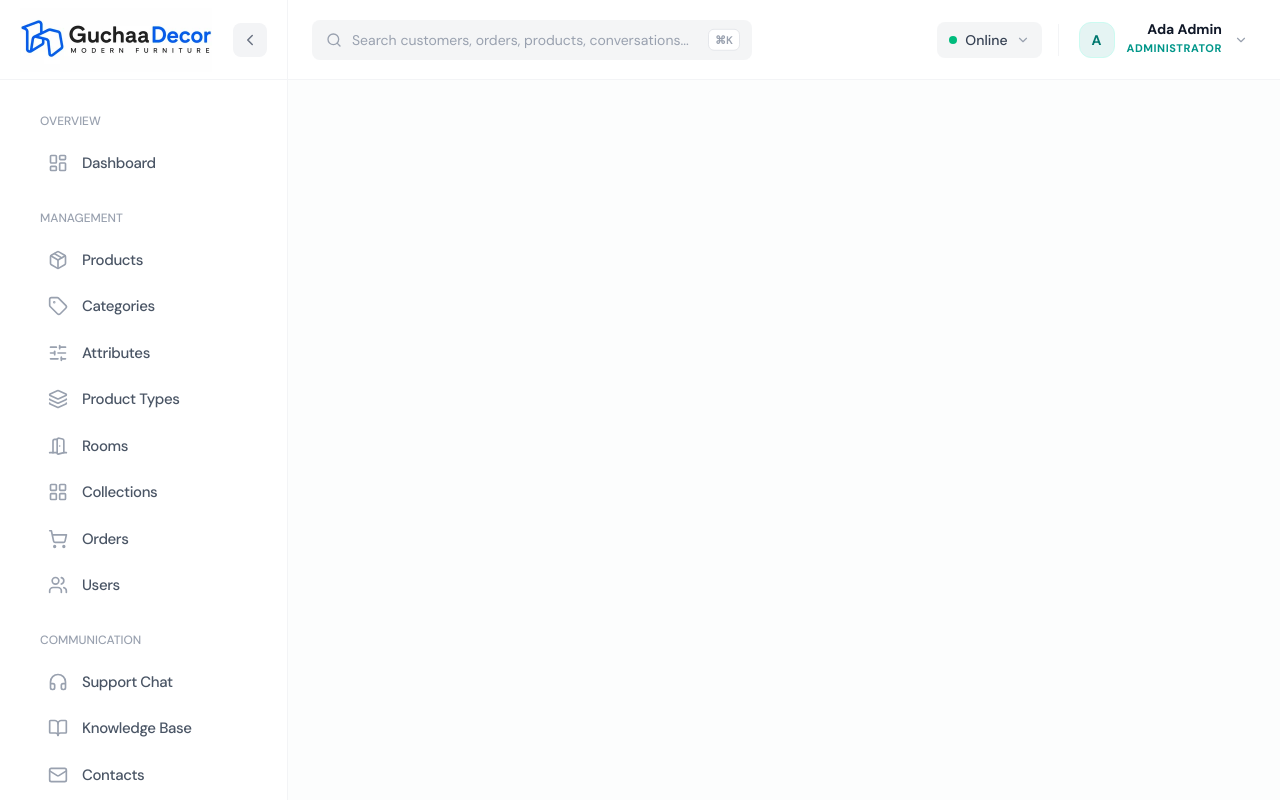
Test: migrated admin modal — AdminLayout Help dialog (FE-64) › opens from the profile menu as a dialog and closes on Escape
Click the button "A Ada Admin Administrator" at (1165, 40), box [1075,16,1256,64]
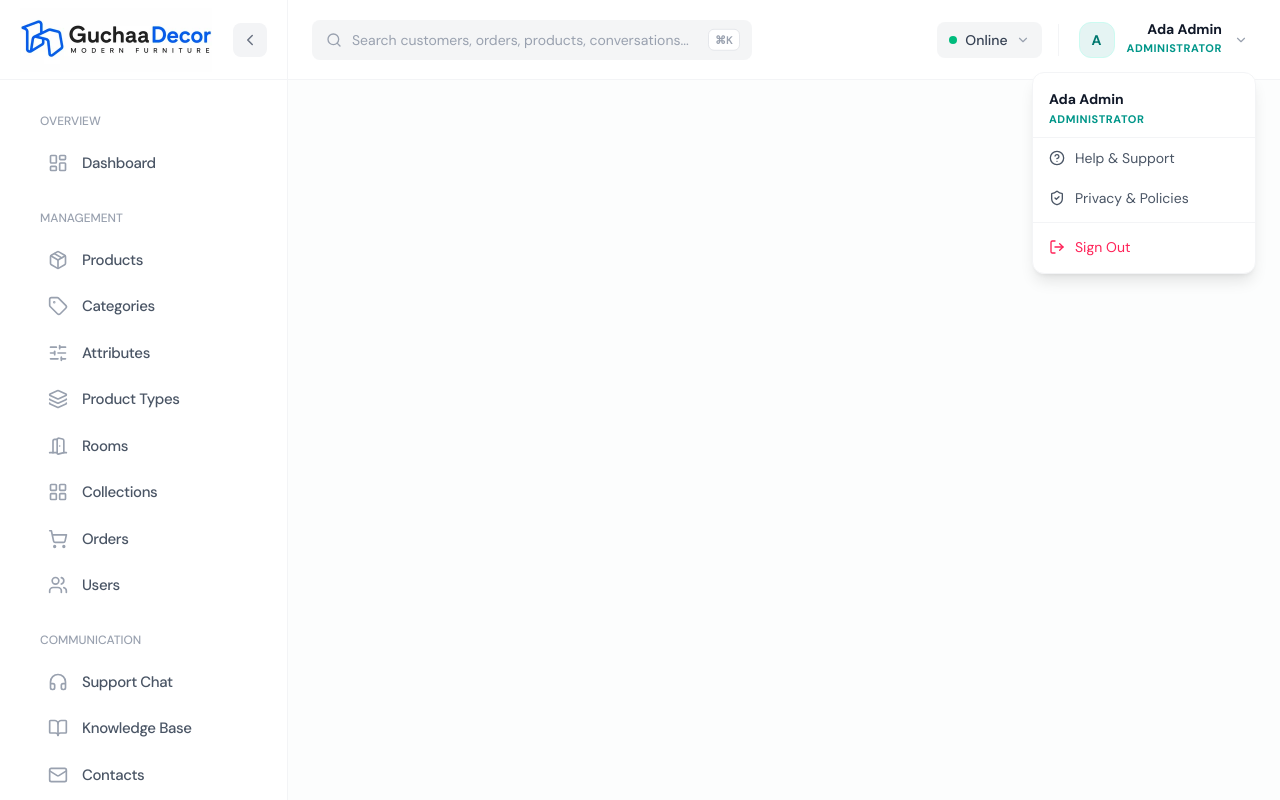
Click the button "Help & Support" at (1144, 158), box [1033,138,1255,178]
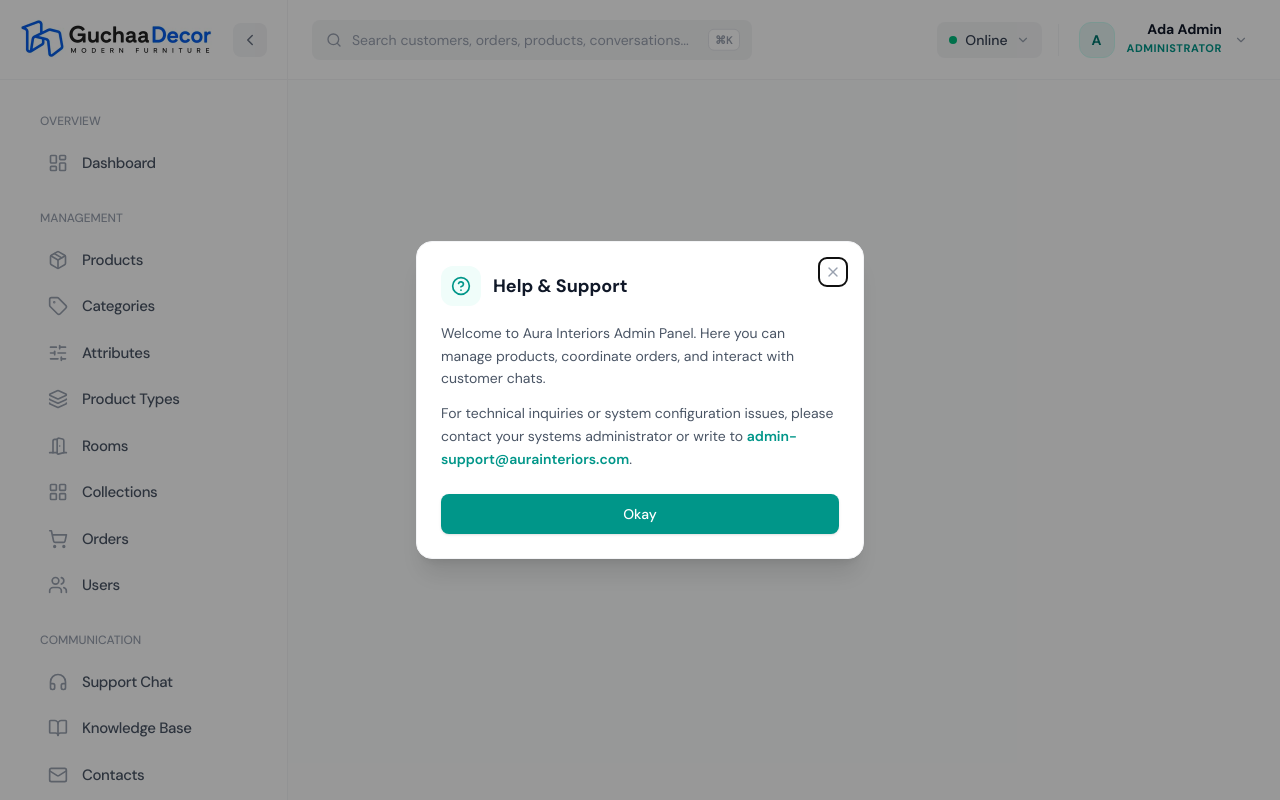
Check: the dialog is shown, box [416,241,864,559]
Press Escape
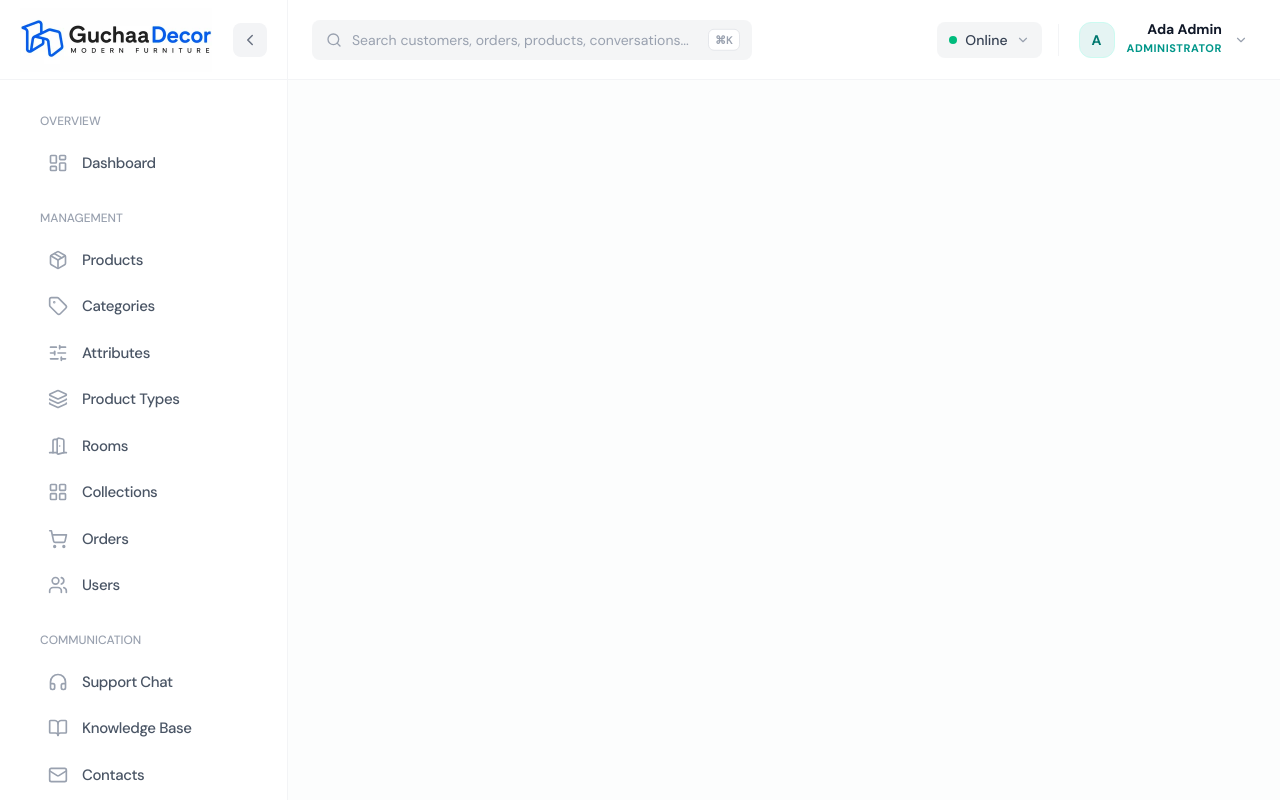
Check: the dialog is gone
